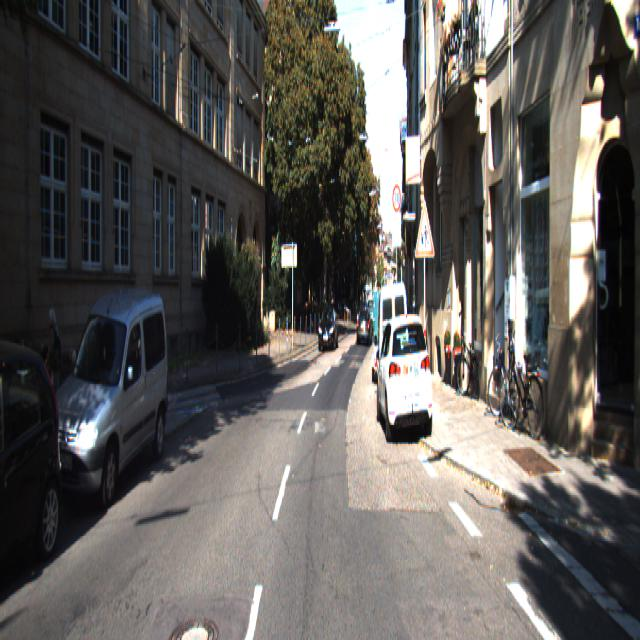Car: (42, 273, 171, 517), (0, 327, 75, 603), (375, 307, 436, 449), (374, 276, 410, 412), (318, 303, 339, 351), (356, 305, 372, 347)
